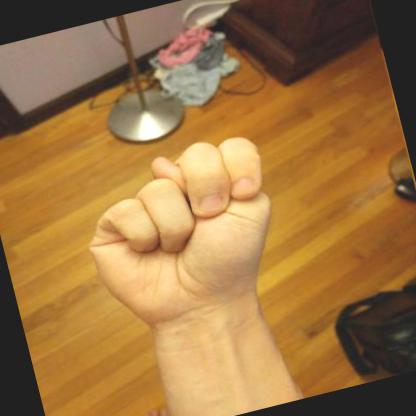N: (89, 137, 271, 332)
